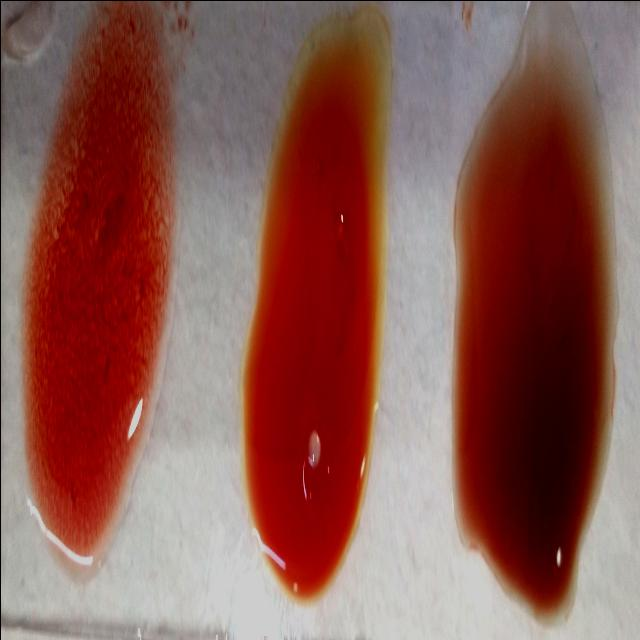D: (28, 26, 171, 574)
